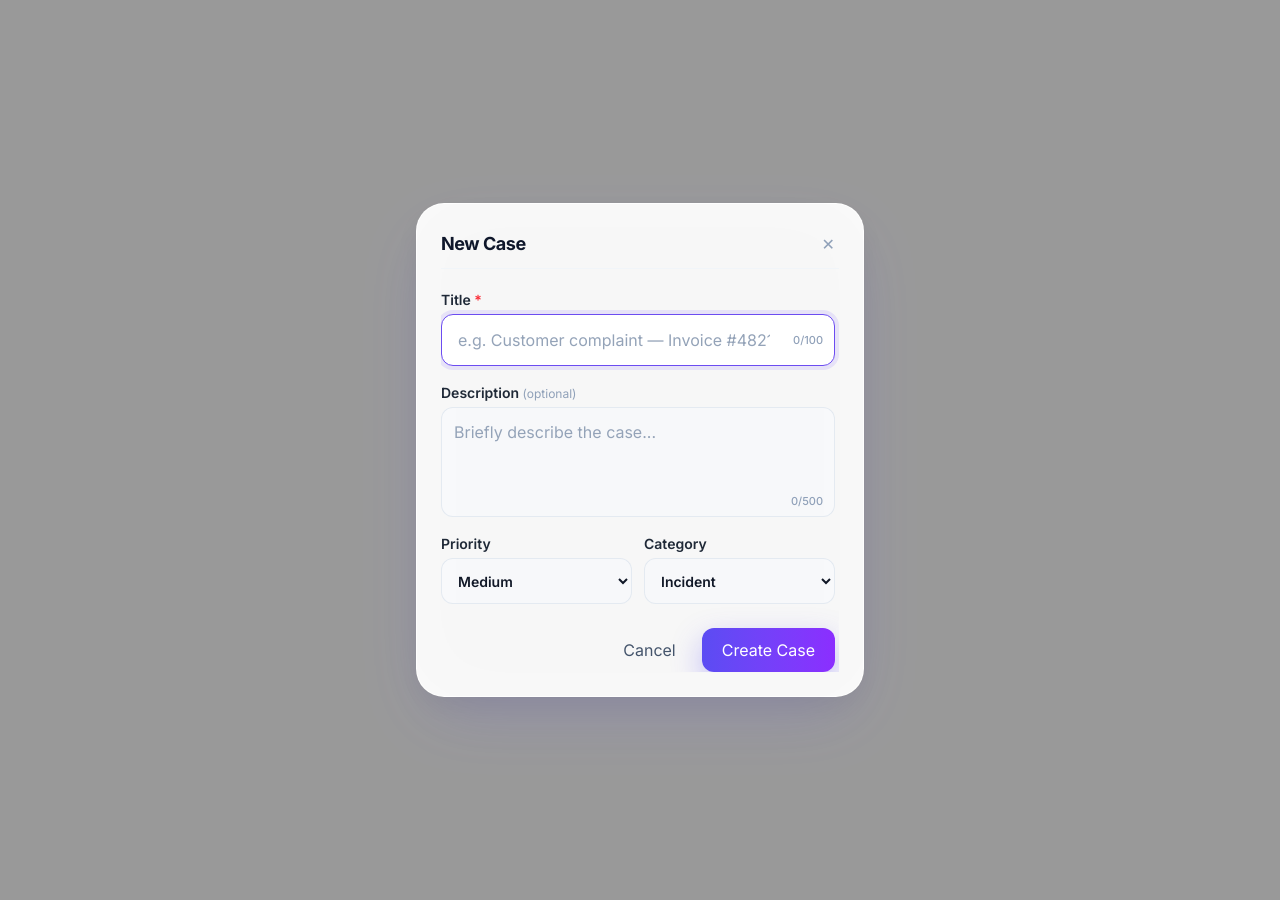
Scenario: CreateCaseModal — submission › shows server error and does not close on failure
Type "New Case" into the field labelled "Title *". click: [638, 340]
box: left=441, top=314, right=835, bottom=366
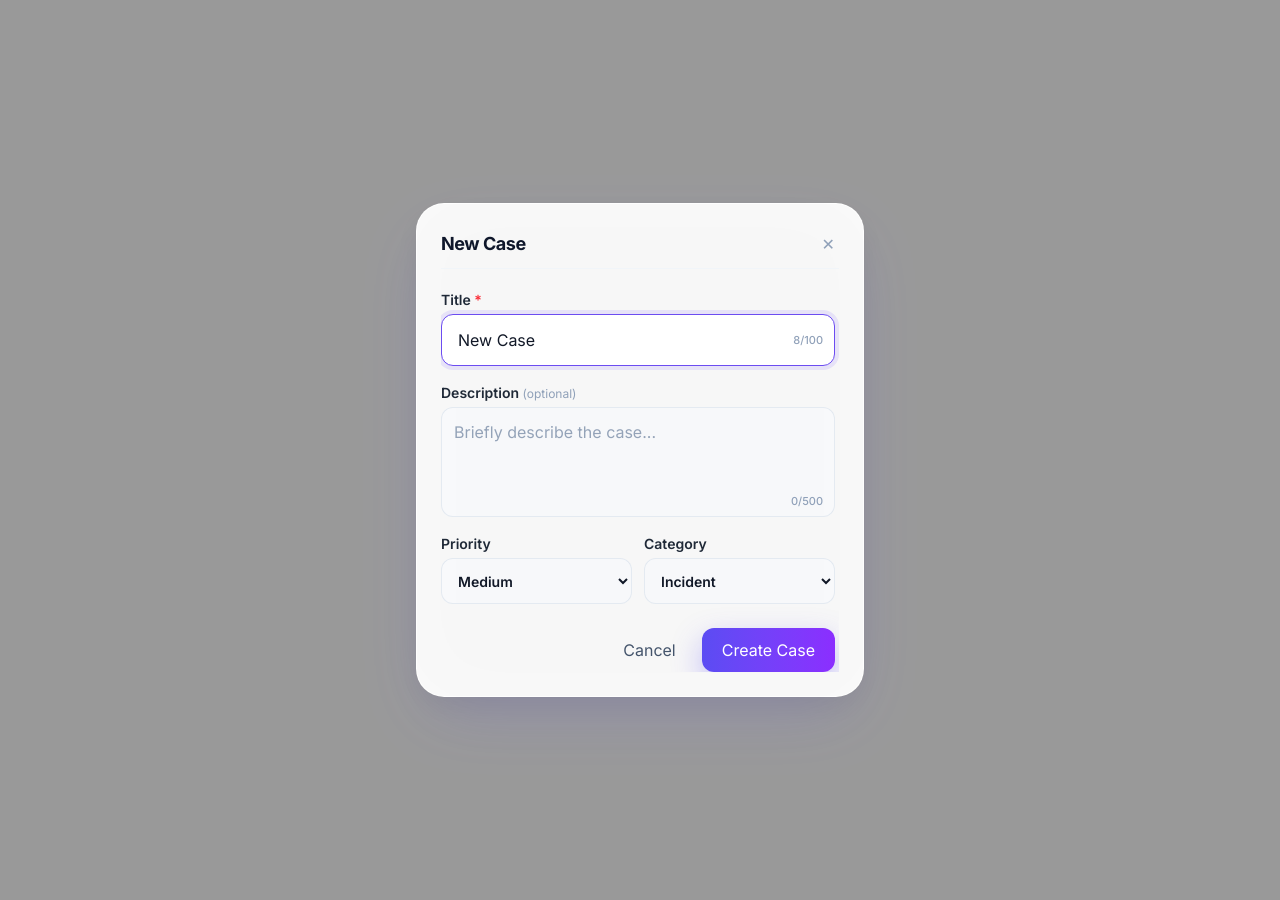
Click the button "Create Case". click: [768, 650]
box: left=702, top=628, right=835, bottom=672
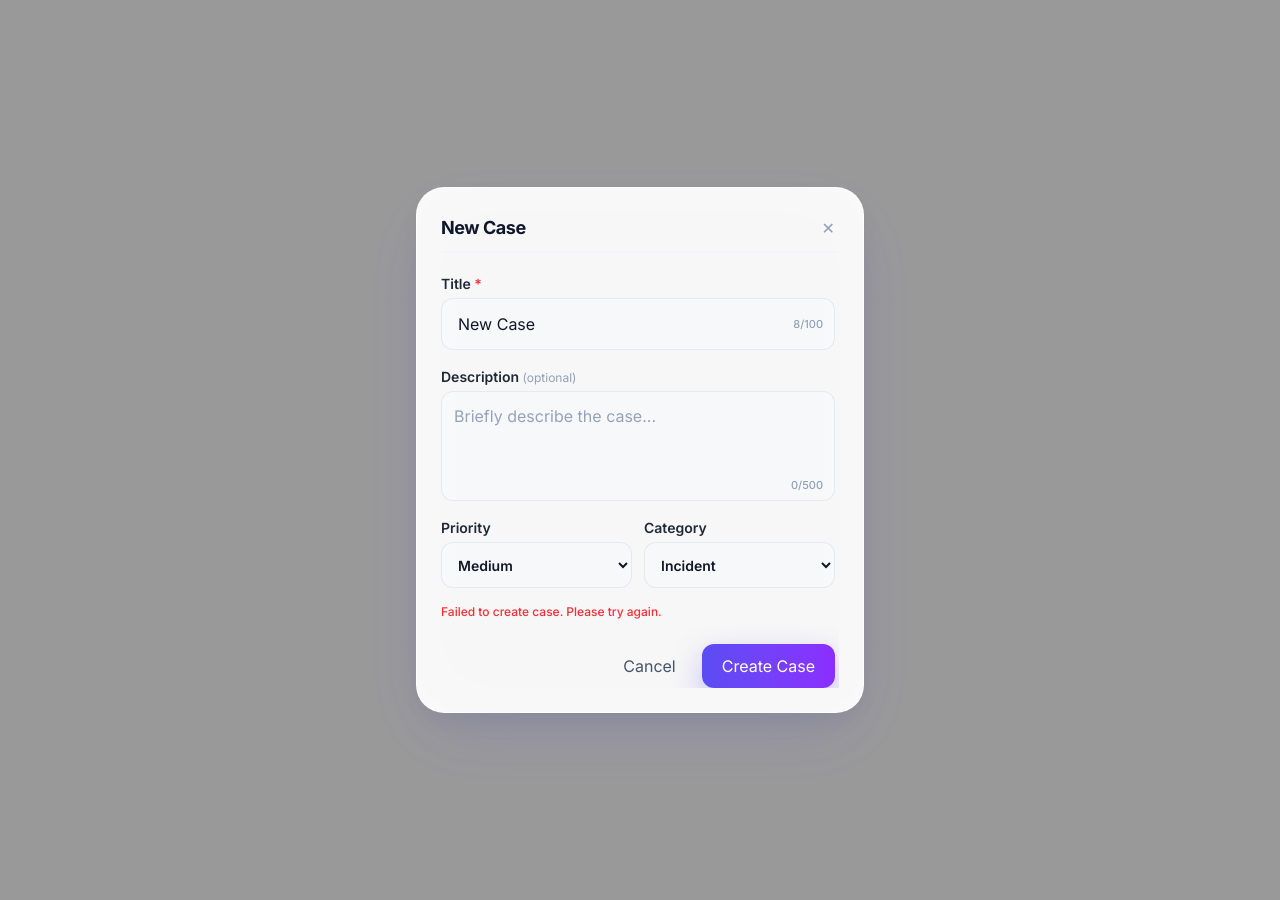
Result: the text "Failed to create case. Please try again." is shown at left=441, top=604, right=662, bottom=619
